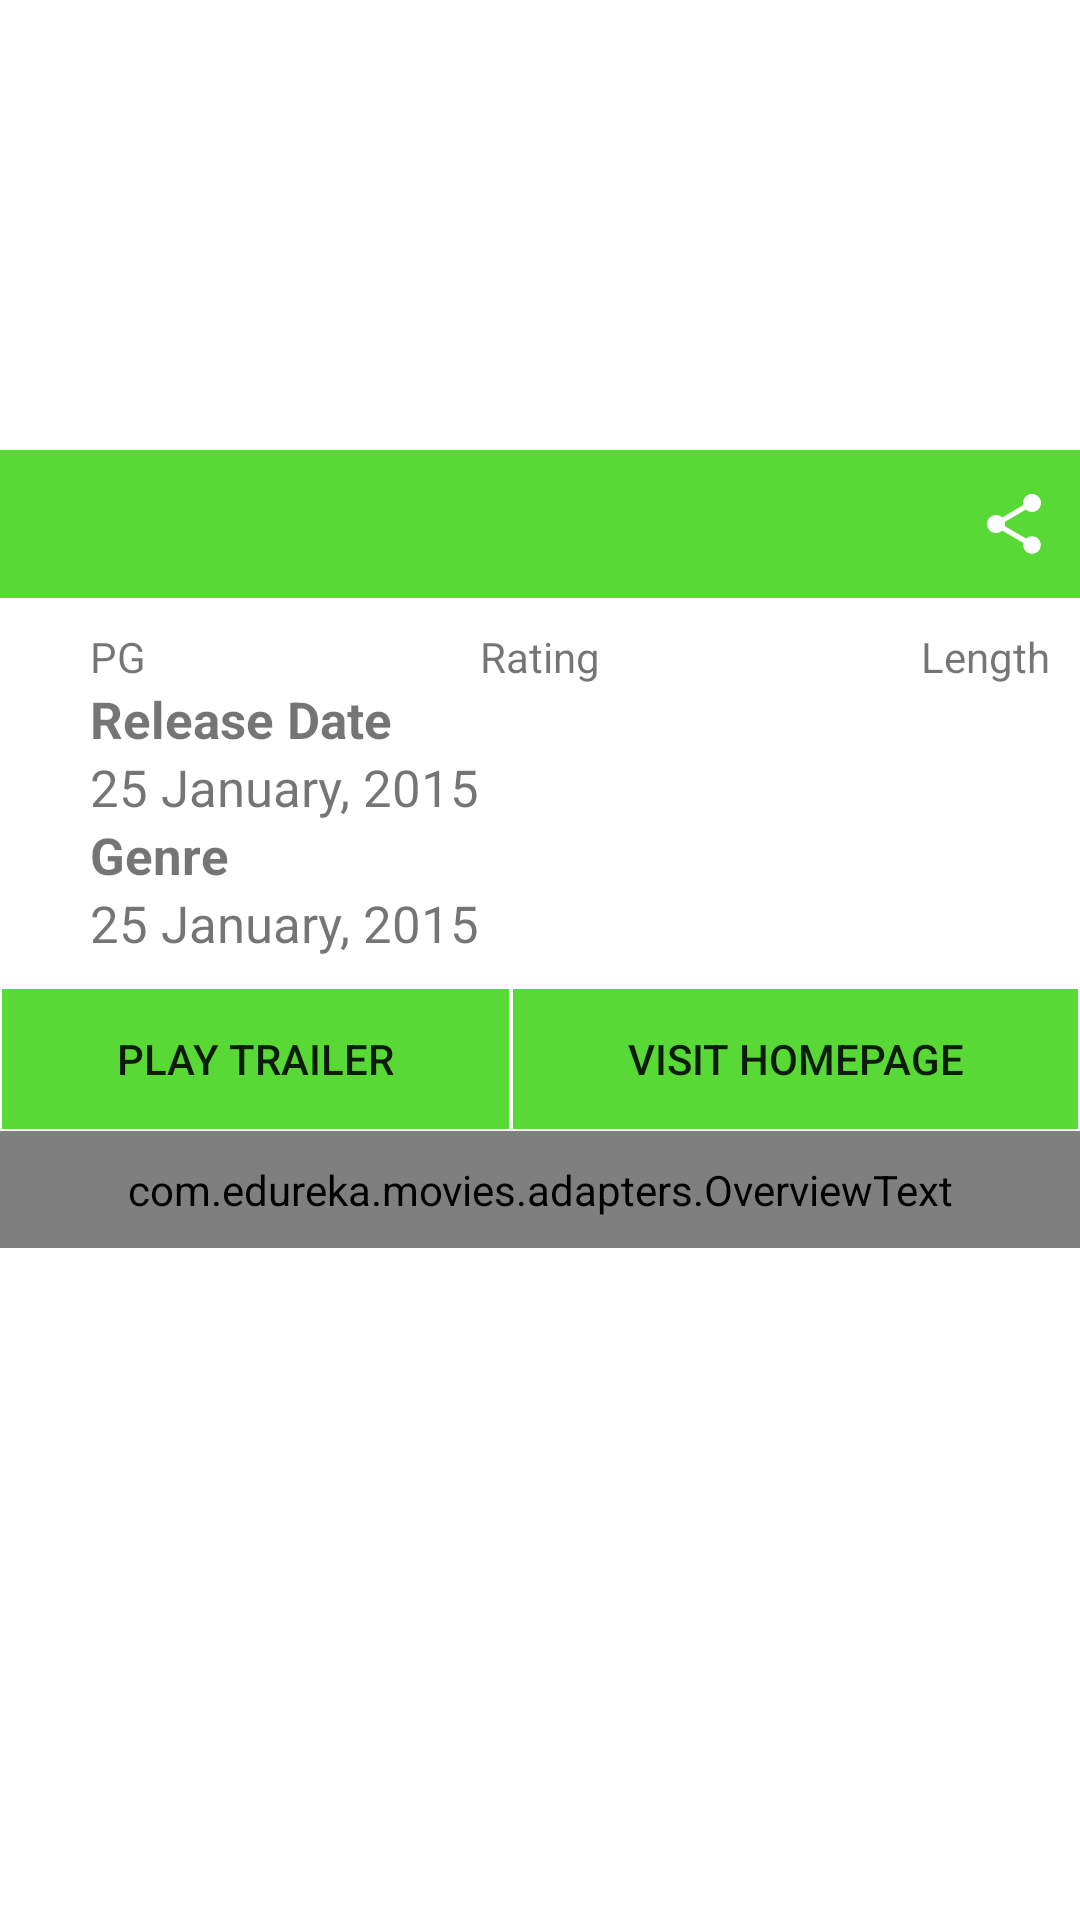

Where to tap for icons on this 1080px x 1920px app screen, as [x,y]:
share: [1014,524]
